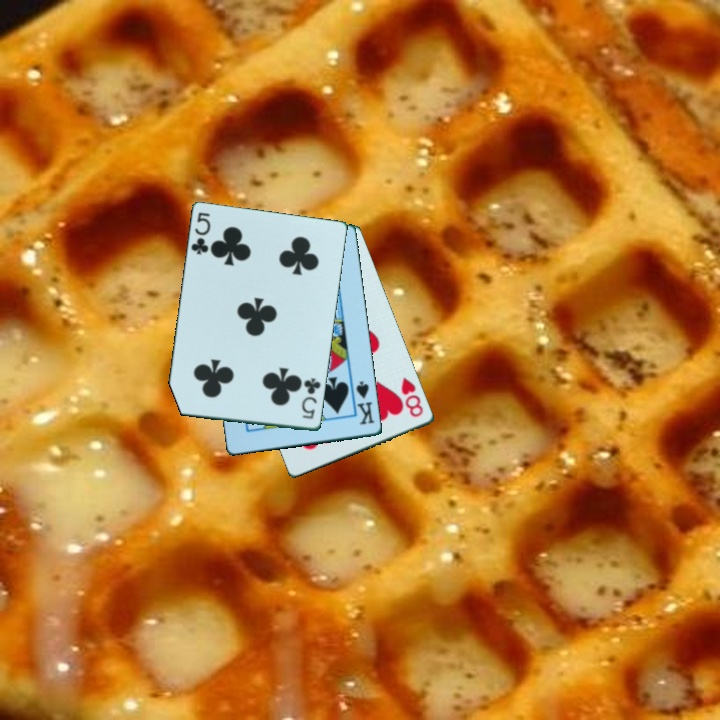5c: (188, 209, 214, 258), (298, 375, 324, 422)
8h: (398, 374, 427, 420)
Ks: (353, 378, 378, 428)
